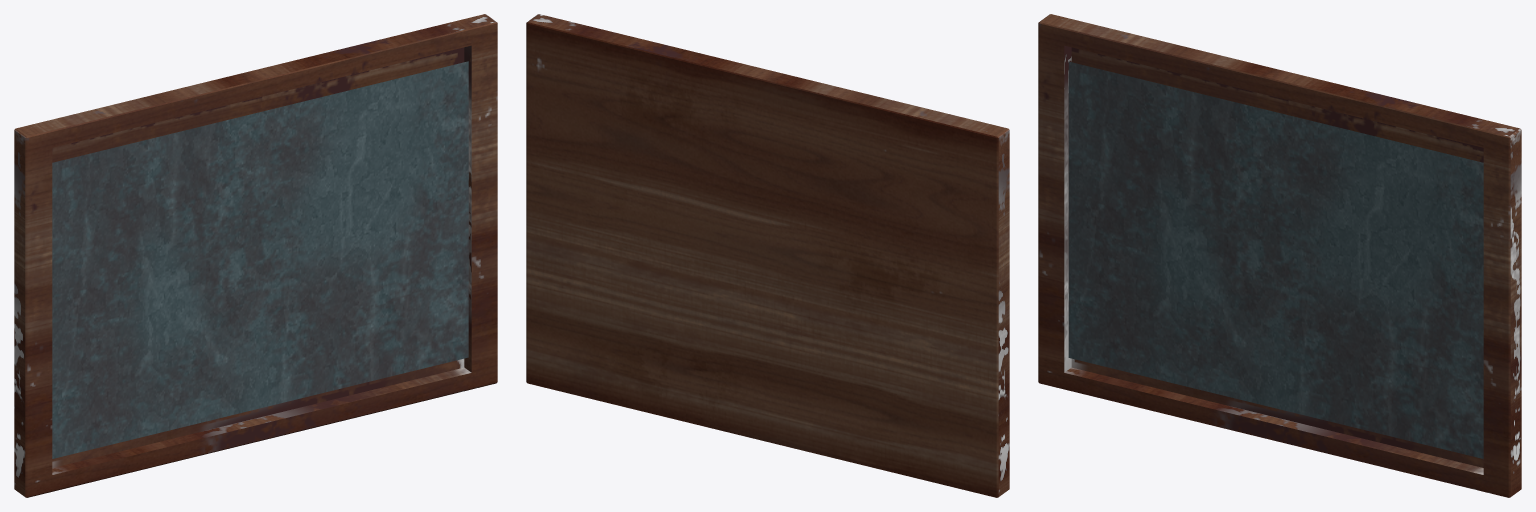
Rendered from framedmap.FBX.
3 views of the same model, side by side, from view 1: azimuth 30°, elevation 25°; view 2: azimuth 150°, elevation 25°; view 3: azimuth 330°, elevation 25° (orthographic).
Visible parts, largest first — view 1: framed map002; view 2: framed map002; view 3: framed map002.
Part boxes in pixels (<box>): framed map002: <box>14,14,497,497</box>; framed map002: <box>526,14,1009,497</box>; framed map002: <box>1038,14,1521,497</box>.
Bounding box in the file's own units: 326 × 238 × 14.28.
